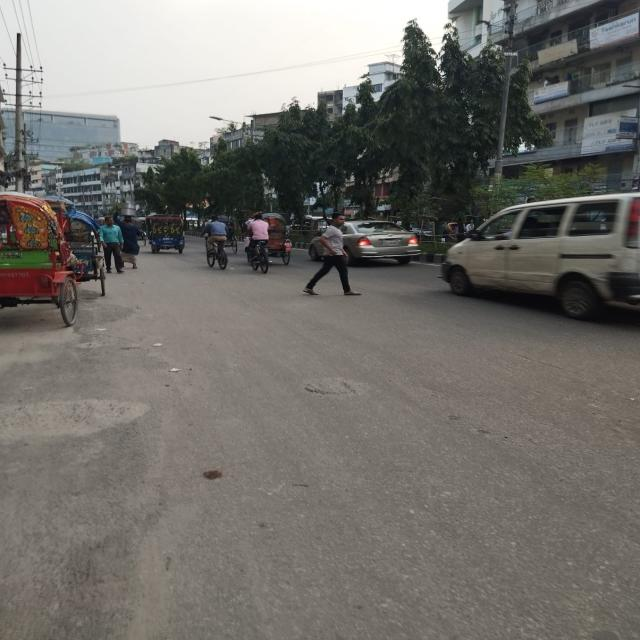person: (304, 212, 362, 296), (99, 216, 124, 274), (117, 216, 141, 270)
